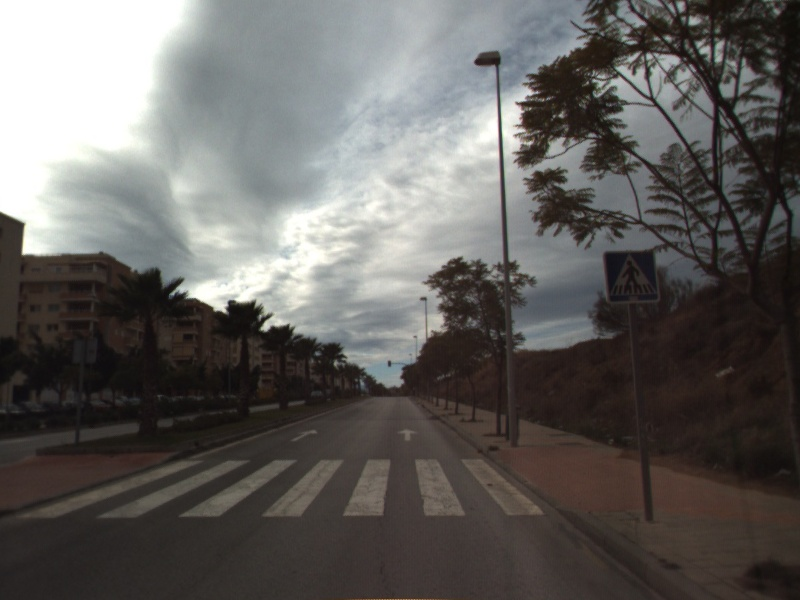STRAIGHT: (289, 428, 319, 443), (396, 427, 419, 442)
